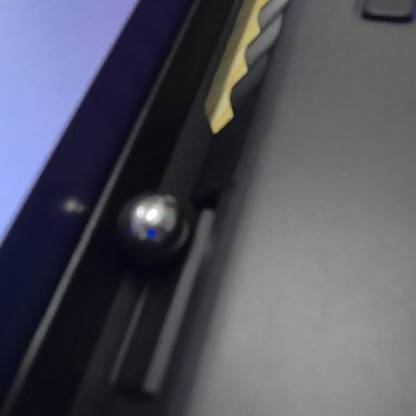ironball: (119, 189, 196, 266)
